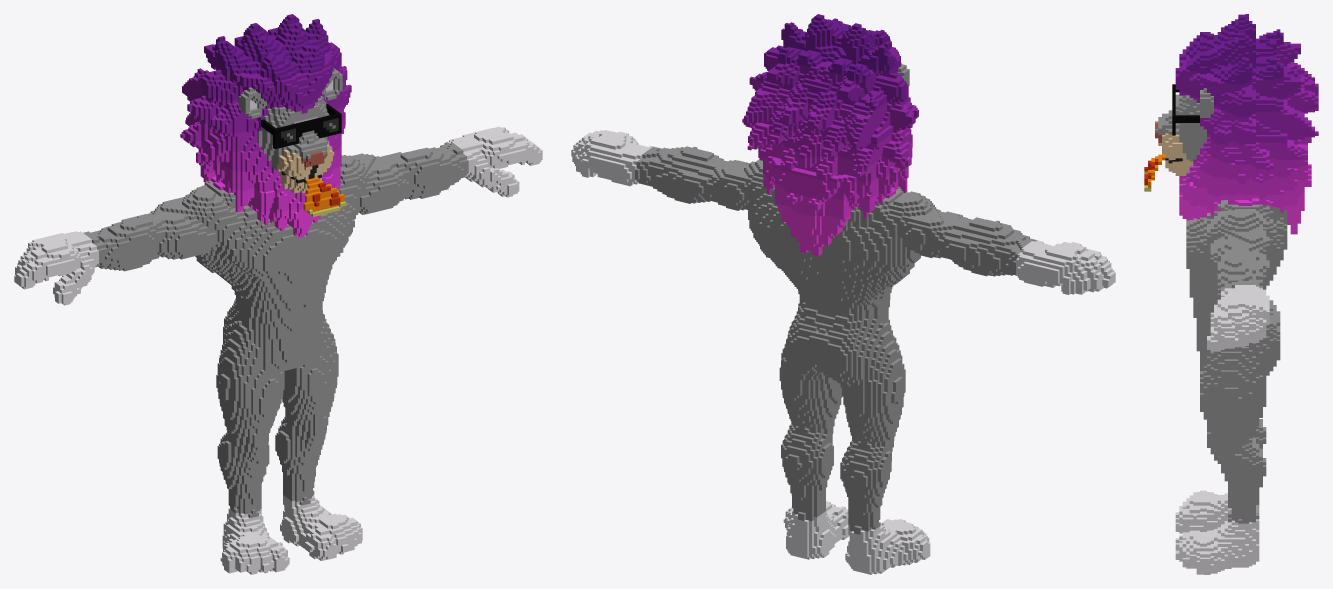
File: 990-mCFtodrL.glb
The picture shows the model from 3 angles, left to right: view 1: azimuth 30°, elevation 25°; view 2: azimuth 150°, elevation 25°; view 3: azimuth 270°, elevation 25°; orthographic projection. The views are drawn at different scales.
Parts seen in each view (by area): view 1: pizza; view 2: pizza; view 3: pizza.
Boxes of the visible parts, bbox=[...] form: pizza: bbox=[14, 14, 542, 574]; pizza: bbox=[571, 14, 1115, 574]; pizza: bbox=[1144, 14, 1318, 574].
Bounding box in the file's own units: 17.2 × 16.5 × 5.
Materials: 4 (4 with a texture image).
